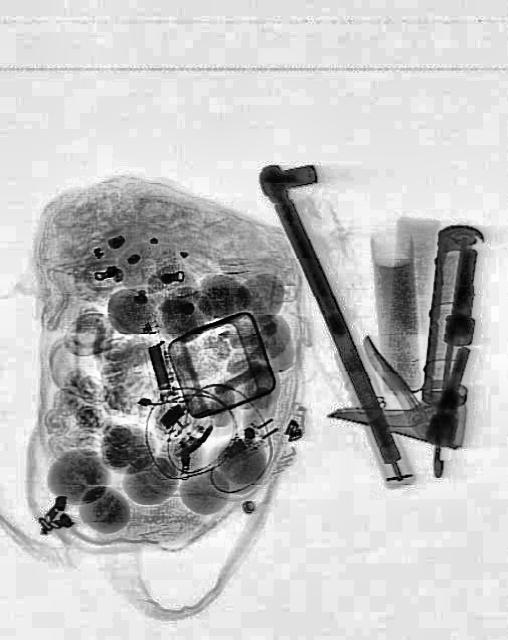Knife: (324, 206, 488, 450)
